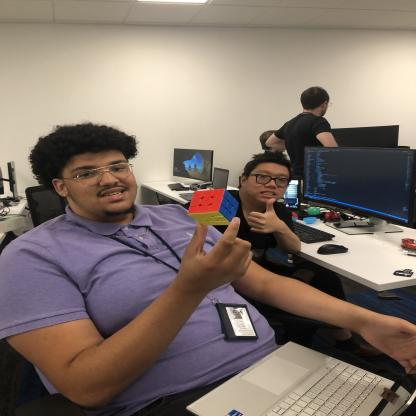SolvedCube: (189, 183, 238, 226)
